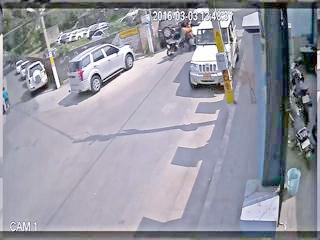Car: (67, 42, 133, 93), (191, 21, 233, 90), (25, 63, 47, 91), (190, 10, 208, 40), (20, 61, 30, 80), (15, 61, 23, 77)
Minor Accident: (165, 12, 206, 51)
Motor: (166, 19, 198, 53)
